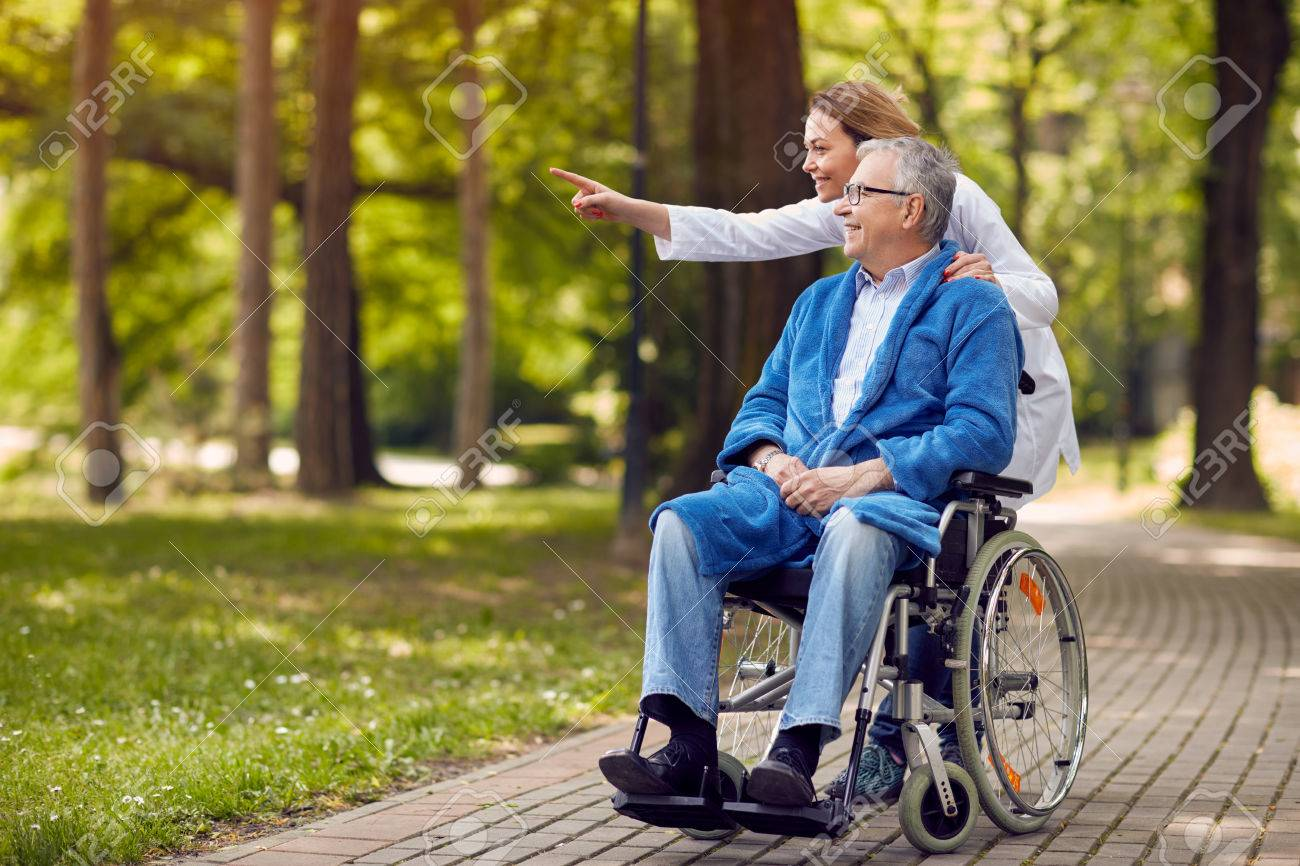person: (819, 131, 1007, 472), (580, 72, 862, 234)
wheelchair: (659, 475, 1094, 854)
